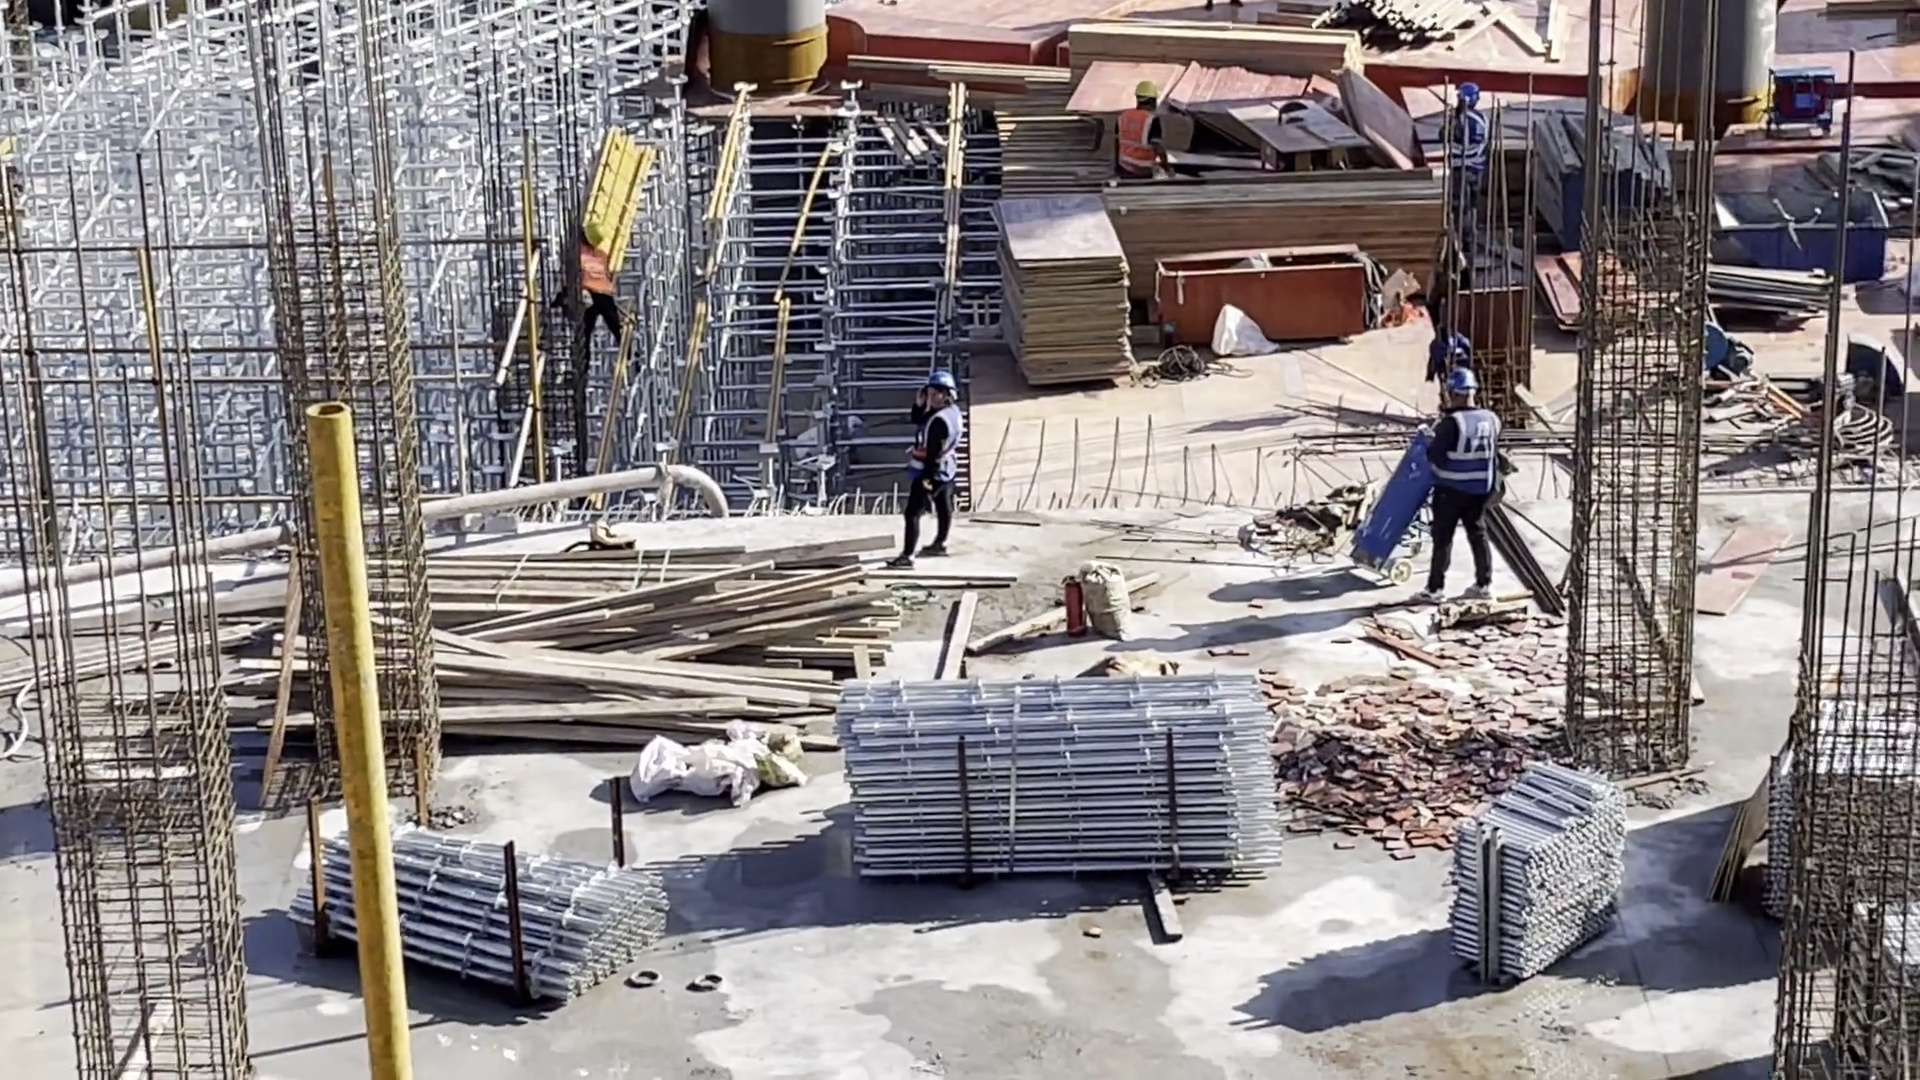board: (1066, 52, 1415, 156), (992, 193, 1136, 394)
helmet: (1444, 371, 1481, 401), (1455, 86, 1484, 112), (931, 372, 955, 395), (588, 220, 609, 245), (1133, 82, 1154, 99)
hopper: (1711, 187, 1886, 282)
person: (1437, 369, 1504, 600), (1434, 80, 1500, 242), (908, 369, 962, 567), (571, 219, 634, 350), (1114, 85, 1171, 193)
scaffold: (836, 670, 1284, 883), (292, 796, 674, 1004), (1759, 663, 1920, 1080), (1446, 761, 1625, 975)
vest: (1441, 410, 1499, 495), (911, 402, 963, 484), (1444, 109, 1489, 175), (1120, 106, 1158, 172), (577, 246, 614, 297)
wood: (287, 535, 898, 756), (1111, 182, 1443, 290), (1067, 15, 1355, 74)
